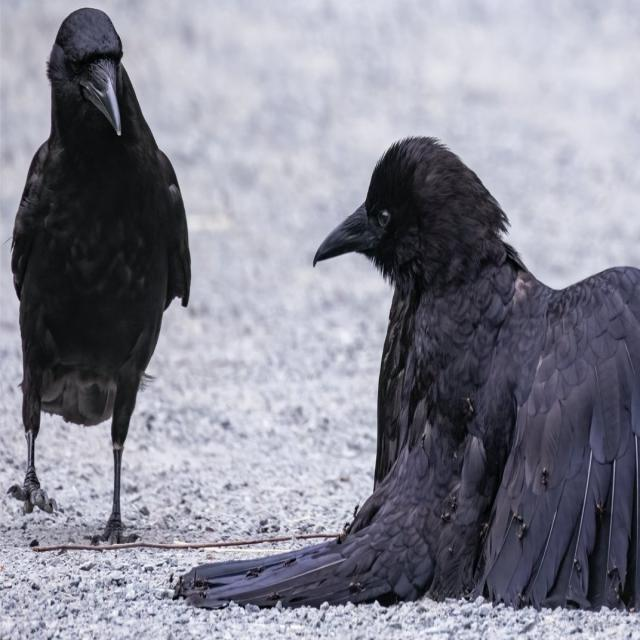crow: (294, 144, 574, 426), (36, 7, 194, 263)
